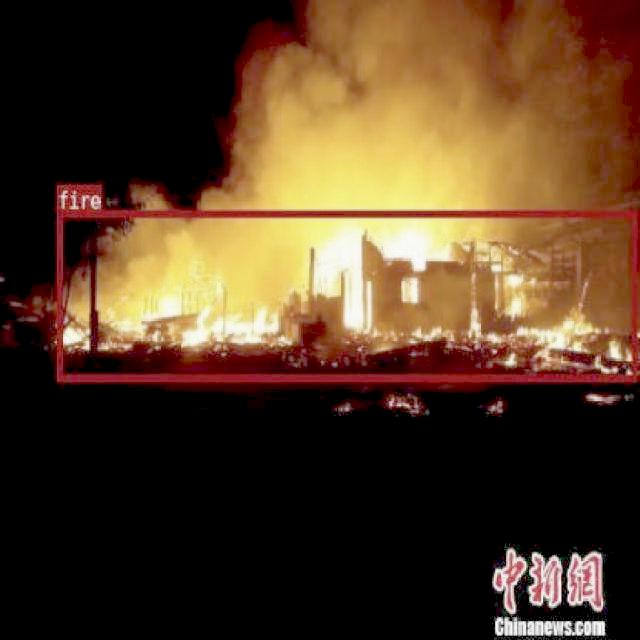fire: (56, 209, 636, 380)
